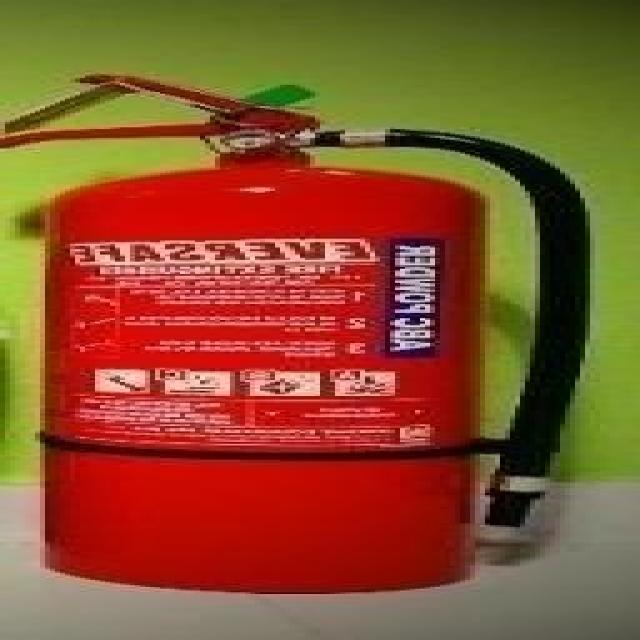fire_extinguisher: (0, 67, 600, 596)
